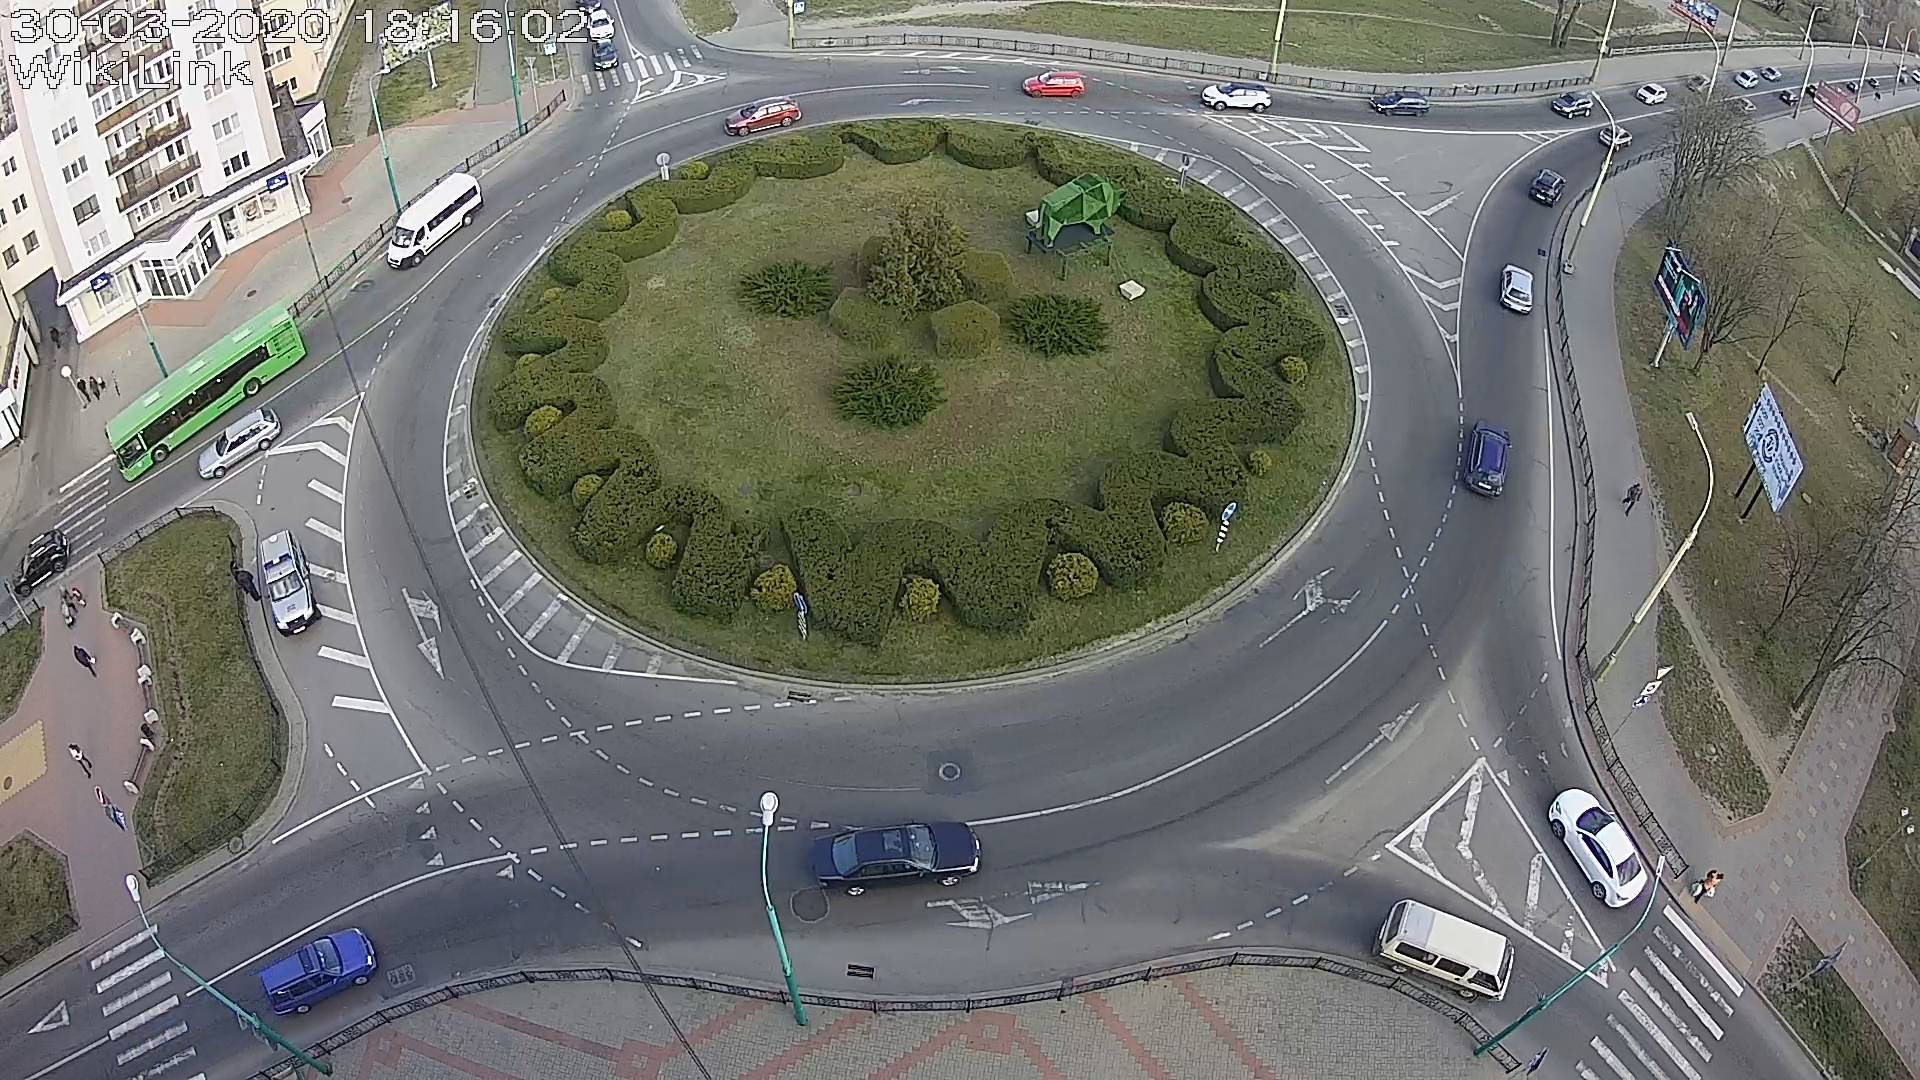bus: (104, 301, 307, 483)
car: (1371, 898, 1515, 1004), (810, 820, 981, 897), (1548, 787, 1648, 909), (258, 926, 378, 1015), (386, 171, 483, 272), (260, 529, 322, 637), (198, 407, 282, 480), (9, 529, 70, 597), (1462, 418, 1513, 498), (723, 96, 803, 138), (1201, 80, 1273, 113), (1499, 264, 1534, 315), (1022, 71, 1085, 99), (1369, 91, 1429, 117), (1528, 167, 1567, 207), (1551, 91, 1593, 120), (1600, 124, 1633, 152), (1636, 82, 1668, 105)
